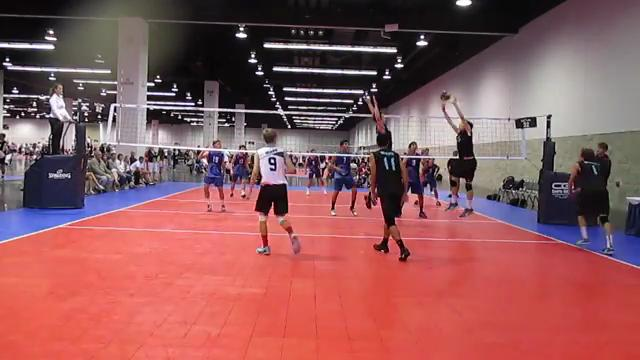Player: (250, 128, 300, 254), (370, 133, 409, 260), (568, 148, 613, 254), (329, 140, 357, 215), (198, 150, 227, 211), (365, 96, 392, 148), (404, 157, 426, 218), (230, 145, 249, 198), (422, 158, 440, 205), (305, 155, 326, 195), (0, 133, 9, 180)
Set: (432, 88, 479, 216)
ball: (439, 91, 451, 102)
